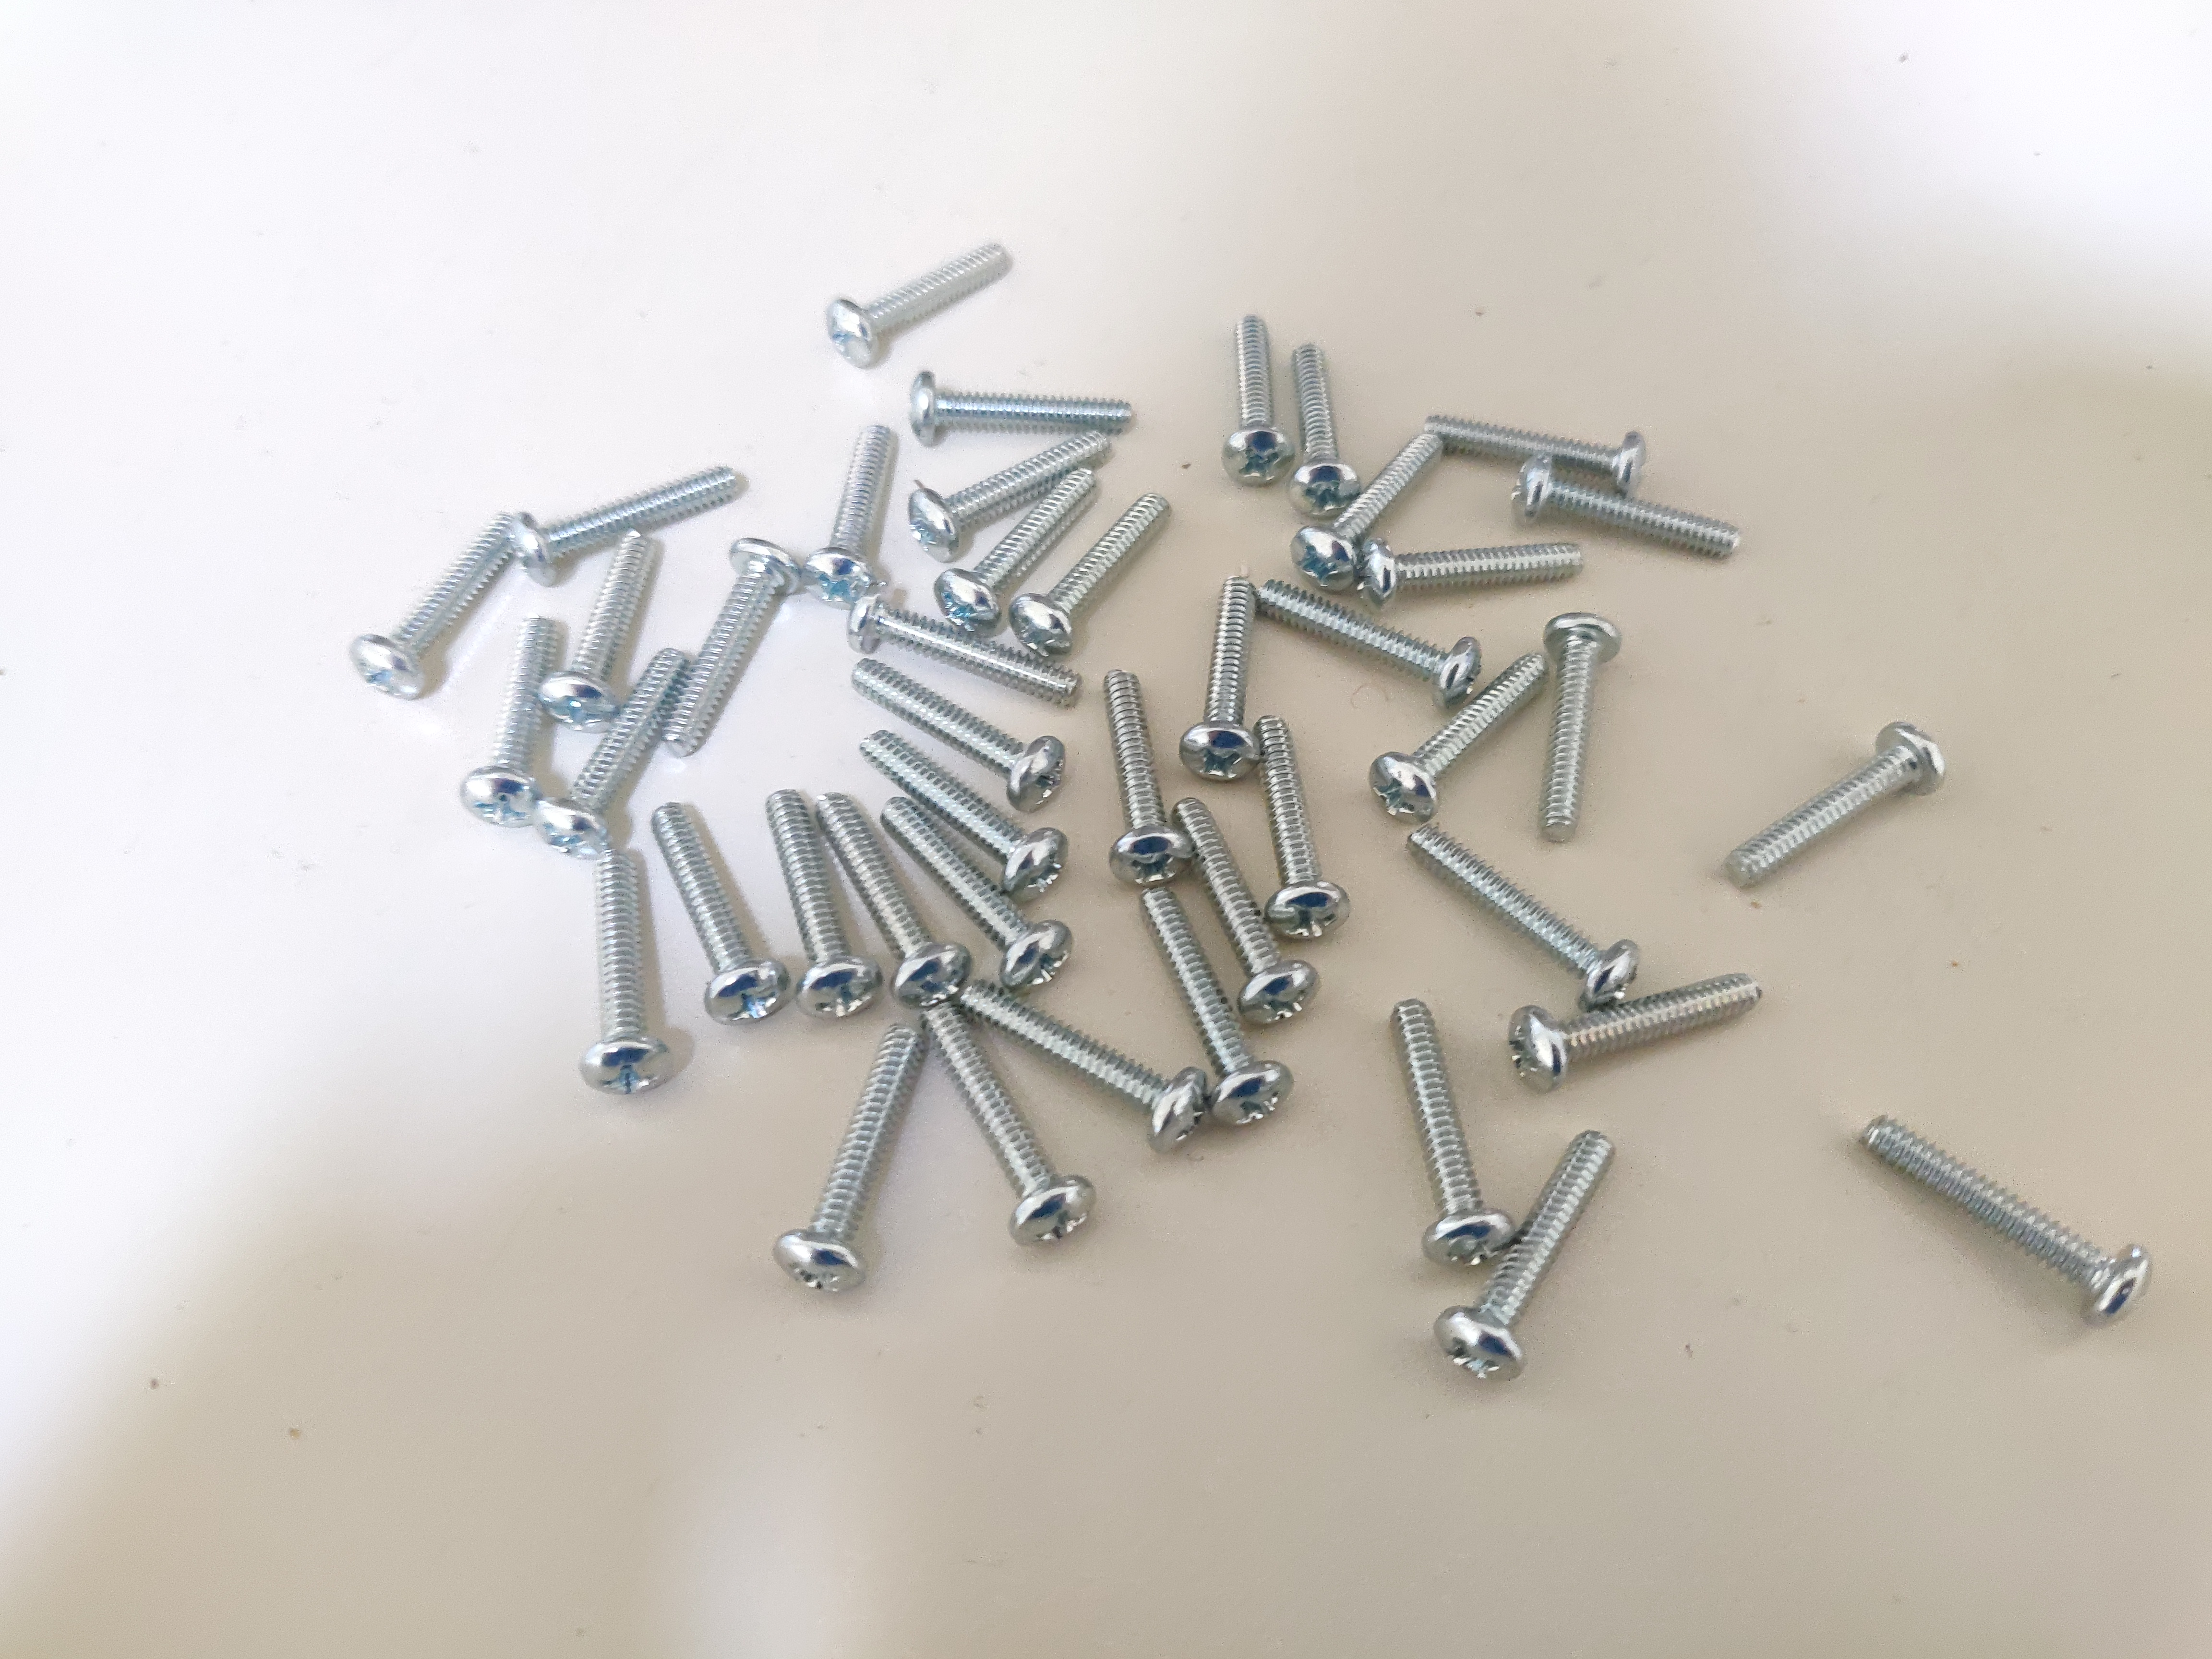longscrew: (1850, 1115, 2141, 1305), (1432, 1127, 1627, 1391), (911, 1007, 1085, 1241), (1407, 829, 1639, 1002), (1362, 1006, 1510, 1267), (1120, 896, 1278, 1138), (1728, 714, 1944, 890), (859, 721, 1064, 901), (972, 981, 1202, 1141), (784, 1033, 923, 1291), (869, 798, 1062, 981), (852, 655, 1082, 807), (1162, 789, 1299, 1021), (815, 793, 968, 999), (364, 500, 516, 701), (855, 589, 1094, 711), (1508, 979, 1770, 1089), (545, 643, 685, 847), (641, 807, 777, 1014), (1256, 559, 1467, 690), (1371, 659, 1534, 819), (516, 464, 737, 582), (570, 852, 678, 1094), (664, 545, 786, 760), (939, 464, 1101, 624), (909, 425, 1122, 547), (1501, 457, 1740, 565), (467, 599, 564, 852), (1289, 441, 1461, 582), (1015, 498, 1179, 647), (543, 533, 671, 716), (1247, 713, 1345, 941), (1087, 667, 1186, 889), (772, 788, 862, 1019), (1428, 397, 1646, 491), (836, 228, 996, 354), (1534, 620, 1613, 842), (911, 362, 1136, 437), (1364, 538, 1594, 603), (1271, 342, 1359, 511), (1212, 315, 1291, 484), (1202, 573, 1256, 781), (820, 422, 881, 599)
